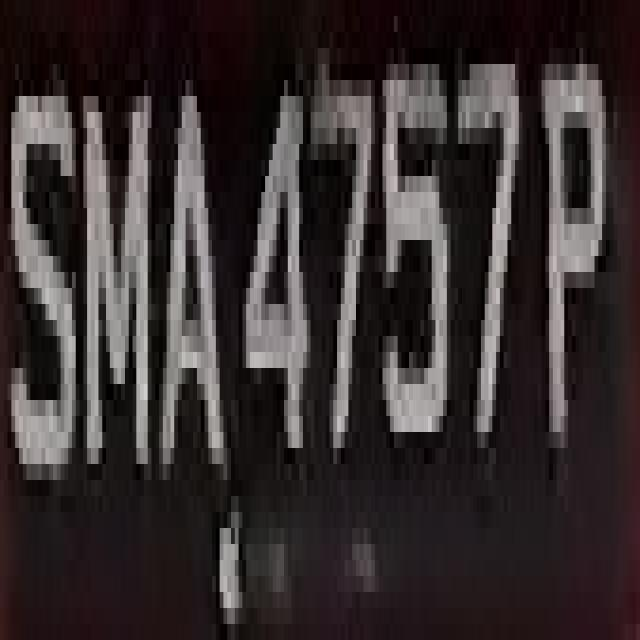4: (227, 0, 311, 480)
5: (382, 32, 450, 496)
7: (299, 64, 383, 528), (447, 64, 526, 448)
A: (155, 96, 220, 544)
M: (87, 80, 163, 512)
P: (538, 64, 617, 448)
S: (0, 64, 87, 528)
